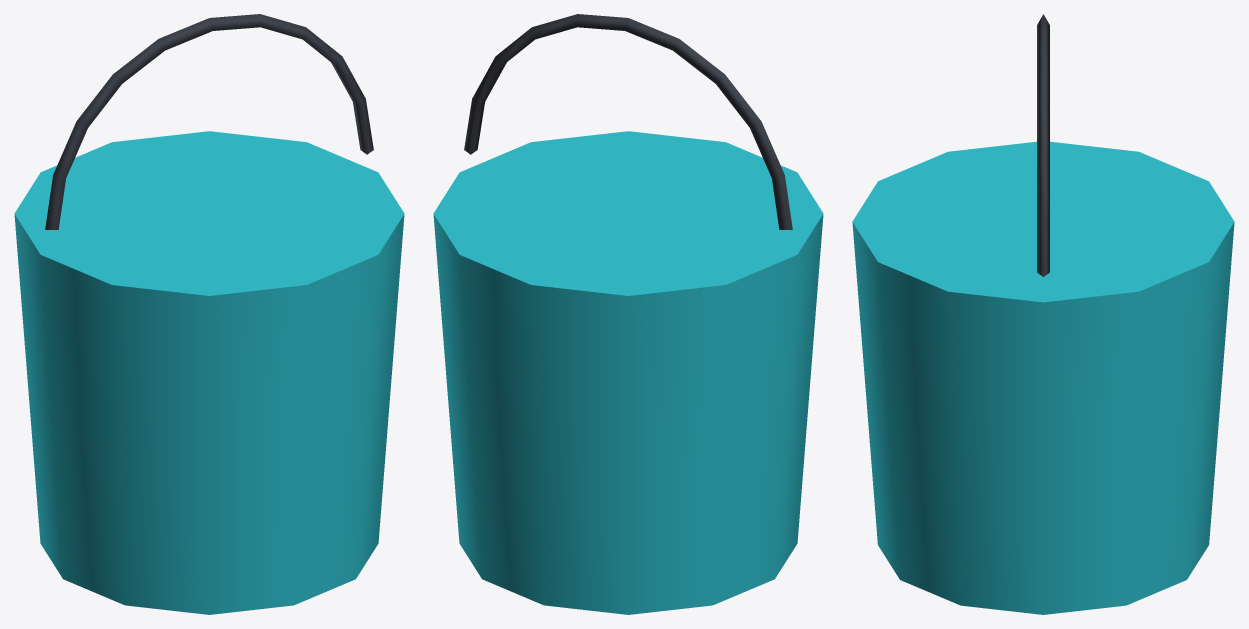
Rendered from station_transport_ausstattung_3_0.glb.
3 renders of one model, left to right at view 1: azimuth 30°, elevation 25°; view 2: azimuth 150°, elevation 25°; view 3: azimuth 270°, elevation 25°, orthographic. The views are drawn at different scales.
Visible parts, largest first — view 1: station_transport_ausstattung_3_0; view 2: station_transport_ausstattung_3_0; view 3: station_transport_ausstattung_3_0.
Boxes of the visible parts, x1,y1,x2,y2 form: station_transport_ausstattung_3_0: (14, 14, 404, 614); station_transport_ausstattung_3_0: (433, 14, 823, 614); station_transport_ausstattung_3_0: (852, 14, 1234, 614).
Bounding box in the file's own units: 0.3 × 0.446 × 0.3.
